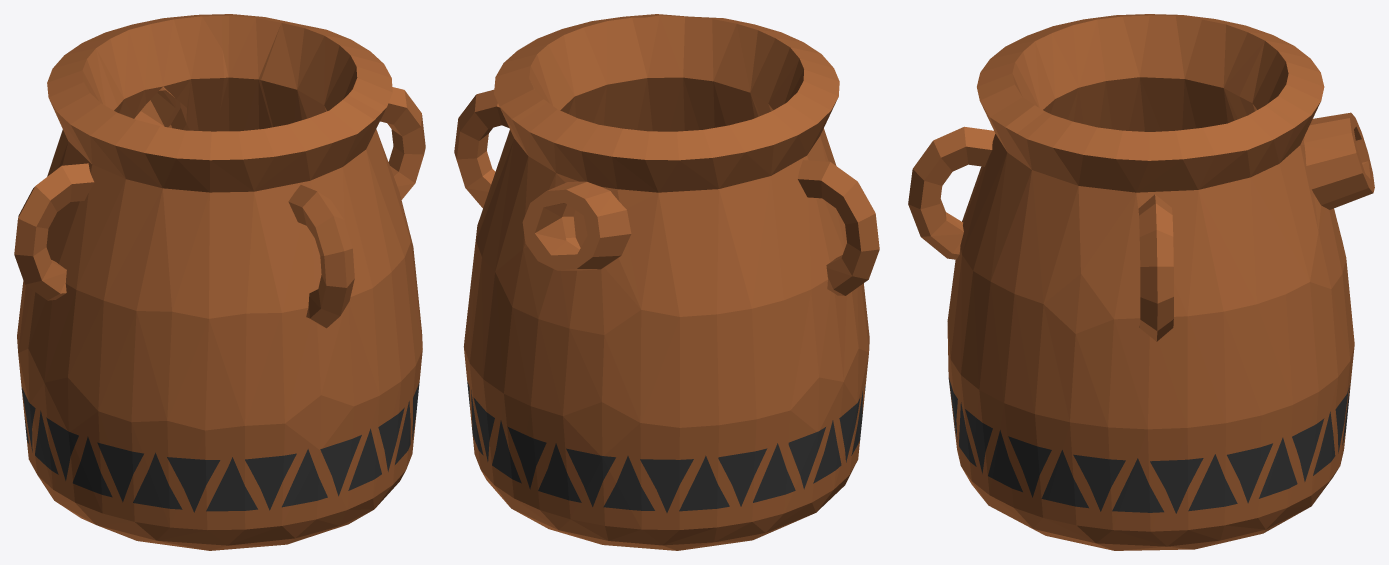
Rendered from Pottery 20_3b.fbx.
The picture shows the model from 3 angles, left to right: view 1: azimuth 30°, elevation 25°; view 2: azimuth 150°, elevation 25°; view 3: azimuth 270°, elevation 25°; orthographic projection.
Parts seen in each view (by area): view 1: Pottery 20_3b.006, Pottery 20_3b, Pottery 20_3b.003, Pottery 20_3b.002, Pottery 20_3b.001, Pottery 20_3b.004; view 2: Pottery 20_3b.003, Pottery 20_3b.001, Pottery 20_3b, Pottery 20_3b.006, Pottery 20_3b.004, Pottery 20_3b.002, Pottery 20_3b.005; view 3: Pottery 20_3b.002, Pottery 20_3b, Pottery 20_3b.006, Pottery 20_3b.004, Pottery 20_3b.003, Pottery 20_3b.001.
Part boxes in pixels (x1,y1,x2,y2): Pottery 20_3b.006: [101, 95, 394, 467]; Pottery 20_3b: [18, 306, 419, 550]; Pottery 20_3b.003: [14, 48, 135, 410]; Pottery 20_3b.002: [261, 23, 425, 394]; Pottery 20_3b.001: [65, 14, 224, 131]; Pottery 20_3b.004: [218, 14, 295, 131]; Pottery 20_3b.003: [658, 81, 879, 470]; Pottery 20_3b.001: [504, 102, 686, 426]; Pottery 20_3b: [464, 289, 869, 550]; Pottery 20_3b.006: [639, 14, 868, 323]; Pottery 20_3b.004: [463, 79, 593, 469]; Pottery 20_3b.002: [454, 15, 652, 340]; Pottery 20_3b.005: [550, 339, 679, 502]; Pottery 20_3b.002: [980, 111, 1261, 458]; Pottery 20_3b: [948, 316, 1347, 550]; Pottery 20_3b.006: [908, 19, 1105, 363]; Pottery 20_3b.004: [1227, 103, 1354, 459]; Pottery 20_3b.003: [1085, 14, 1293, 131]; Pottery 20_3b.001: [1239, 40, 1374, 352].
Bounding box in the file's own units: 62.86 × 59.43 × 60.51.
